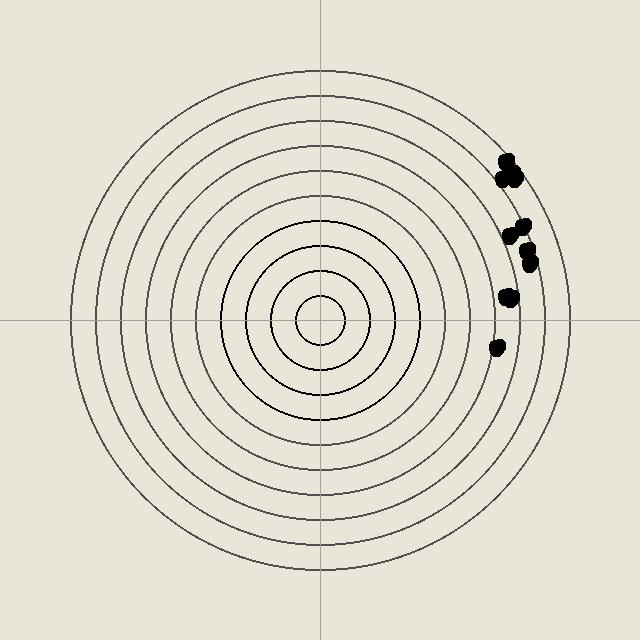vertical_scatter: (492, 168, 512, 188), (499, 225, 519, 245), (501, 163, 521, 183), (516, 240, 536, 260), (500, 288, 520, 308), (512, 216, 532, 236), (504, 168, 524, 188), (519, 253, 539, 273), (495, 286, 515, 306), (486, 337, 506, 357), (495, 151, 515, 171)
